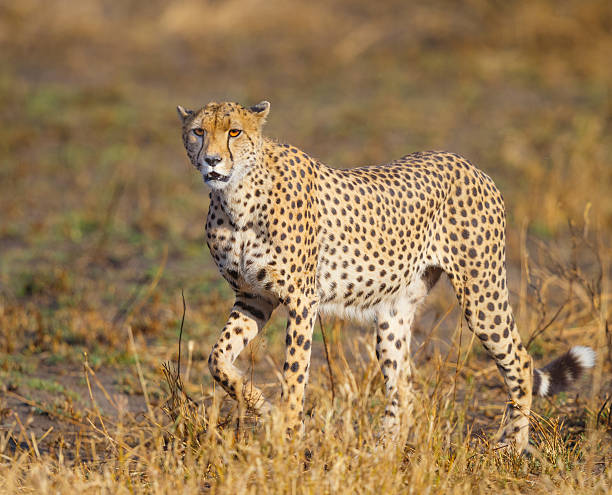cheetah: (167, 92, 278, 195)
